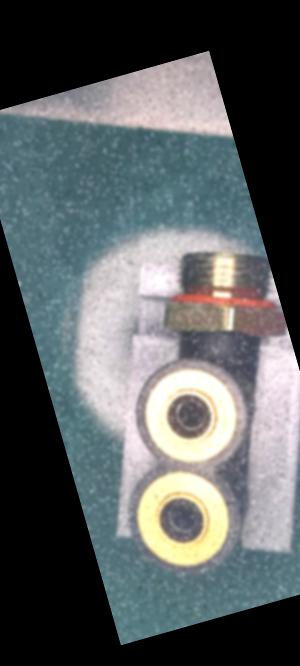craze: (209, 329, 223, 345)
